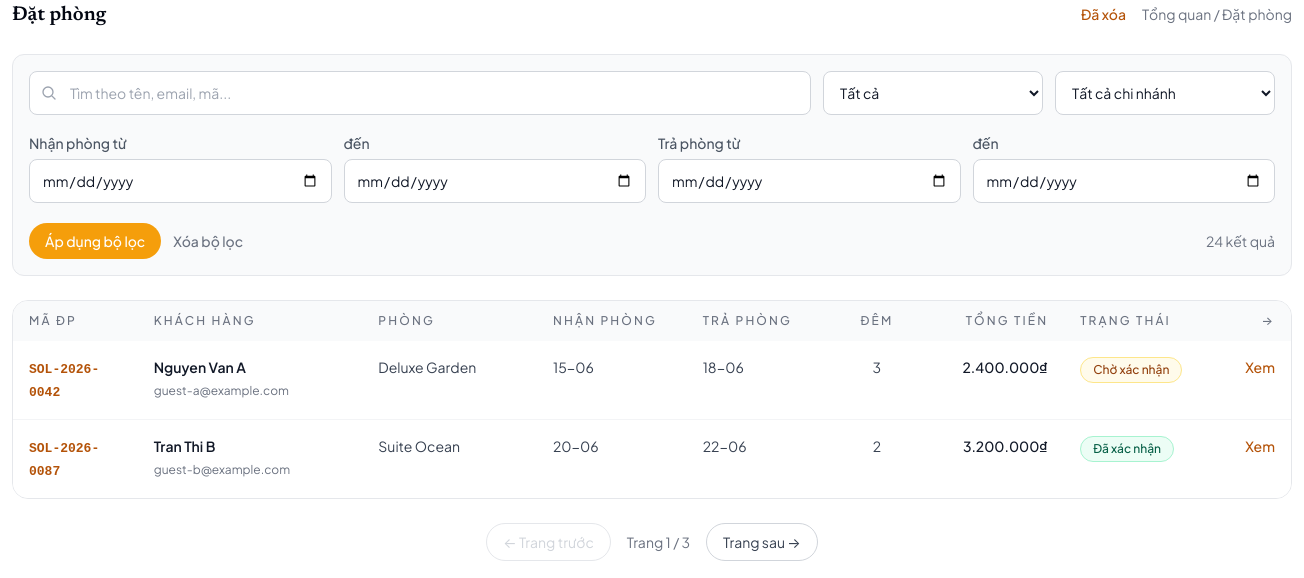
Test case: AdminBookingDashboard › supports pagination controls
This screenshot has width=1304, height=578.
Check: the text "SOL-2026-0042" is shown, box [29,362,99,400]
Click the button "Trang sau →": [762, 542] box [706,523,818,561]
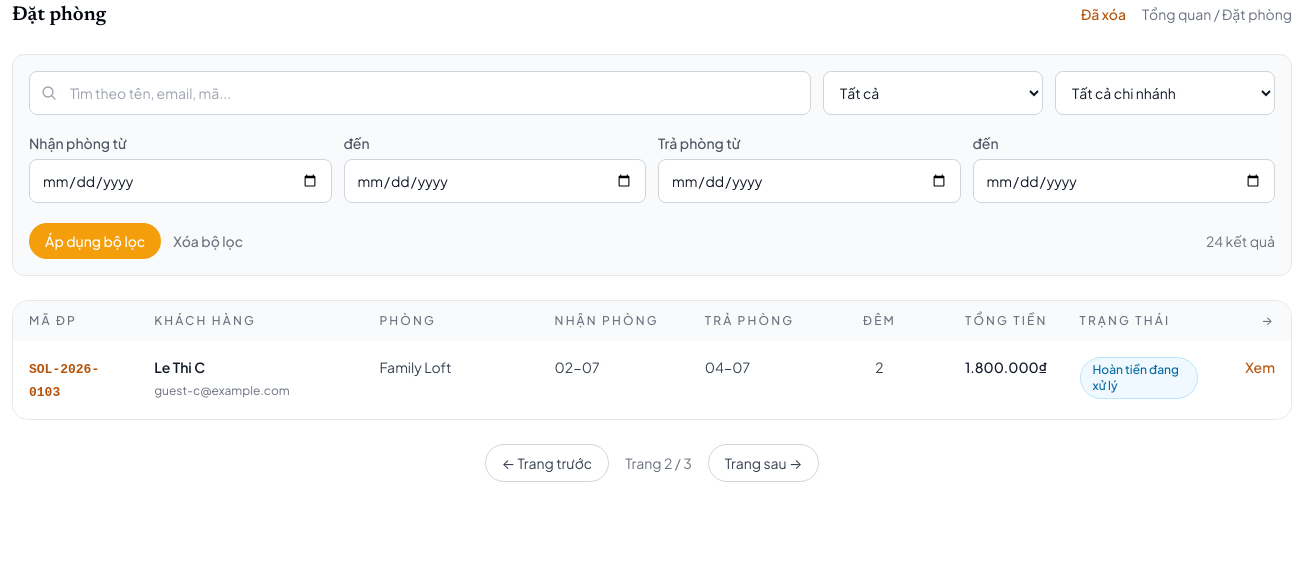
Check: the text "SOL-2026-0103" is shown, box [29,362,99,400]
Check: the text "Trang 2 / 3" is shown, box [625,453,692,473]
